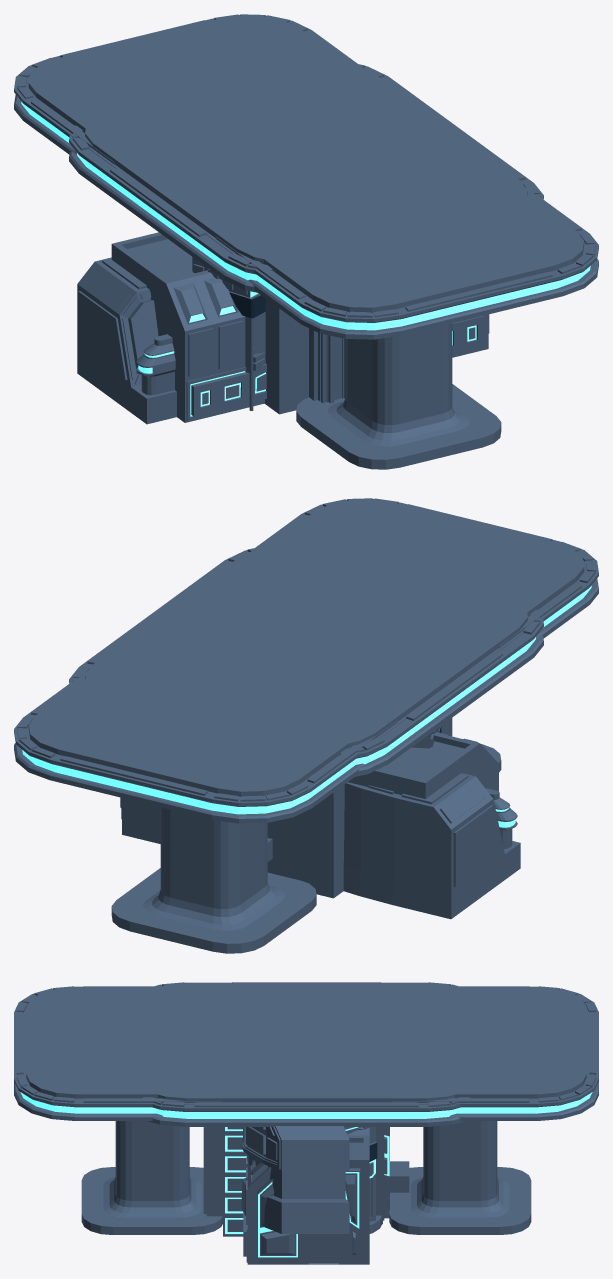
File: niko-city-kit.glb
3 views of the same model, one above another, from view 1: azimuth 30°, elevation 25°; view 2: azimuth 150°, elevation 25°; view 3: azimuth 270°, elevation 25° (orthographic). The views are drawn at different scales.
Parts seen in each view (by area): view 1: pavilion-metalic-light-gray, station-metalic-light-gray, hall-metalic-light-gray, canopy-metalic-light-gray, tower-block-metalic-light-gray, hangar-metalic-light-gray, habitat-metalic-light-gray, pavilion-lights, canopy-lights, hall-lights, habitat-metalic-dark-gray; view 2: pavilion-metalic-light-gray, station-metalic-light-gray, canopy-metalic-light-gray, tower-block-metalic-light-gray, hall-metalic-light-gray, pavilion-lights, hangar-metalic-light-gray, habitat-metalic-light-gray, canopy-lights; view 3: pavilion-metalic-light-gray, canopy-metalic-light-gray, station-metalic-light-gray, hall-metalic-light-gray, hangar-metalic-light-gray, tower-block-metalic-light-gray, canopy-lights, habitat-metalic-light-gray, pavilion-lights, tower-block-lights, hall-lights.
Part boxes in pixels (bbox=[...]): pavilion-metalic-light-gray: bbox=[14, 14, 598, 469]; station-metalic-light-gray: bbox=[77, 123, 452, 424]; hall-metalic-light-gray: bbox=[111, 232, 489, 422]; canopy-metalic-light-gray: bbox=[69, 64, 543, 292]; tower-block-metalic-light-gray: bbox=[190, 121, 309, 414]; hangar-metalic-light-gray: bbox=[242, 124, 366, 403]; habitat-metalic-light-gray: bbox=[192, 158, 387, 410]; pavilion-lights: bbox=[21, 101, 590, 330]; canopy-lights: bbox=[77, 153, 257, 280]; hall-lights: bbox=[189, 306, 476, 416]; habitat-metalic-dark-gray: bbox=[229, 292, 265, 318]; pavilion-metalic-light-gray: bbox=[14, 498, 598, 953]; station-metalic-light-gray: bbox=[179, 598, 520, 919]; canopy-metalic-light-gray: bbox=[69, 548, 543, 776]; tower-block-metalic-light-gray: bbox=[235, 662, 344, 898]; hall-metalic-light-gray: bbox=[120, 732, 498, 843]; pavilion-lights: bbox=[22, 585, 591, 814]; hangar-metalic-light-gray: bbox=[230, 619, 362, 861]; habitat-metalic-light-gray: bbox=[264, 608, 440, 748]; canopy-lights: bbox=[355, 637, 535, 764]; pavilion-metalic-light-gray: bbox=[14, 986, 598, 1234]; canopy-metalic-light-gray: bbox=[140, 982, 475, 1233]; station-metalic-light-gray: bbox=[241, 1029, 349, 1233]; hall-metalic-light-gray: bbox=[243, 1127, 369, 1264]; hangar-metalic-light-gray: bbox=[203, 1027, 409, 1224]; tower-block-metalic-light-gray: bbox=[223, 1012, 389, 1236]; canopy-lights: bbox=[156, 1109, 456, 1118]; habitat-metalic-light-gray: bbox=[239, 1001, 376, 1221]; pavilion-lights: bbox=[20, 1092, 592, 1113]; tower-block-lights: bbox=[225, 1127, 389, 1233]; hall-lights: bbox=[258, 1172, 359, 1257].
Size of the model in its own units: 2.01 by 1 by 3.23.
